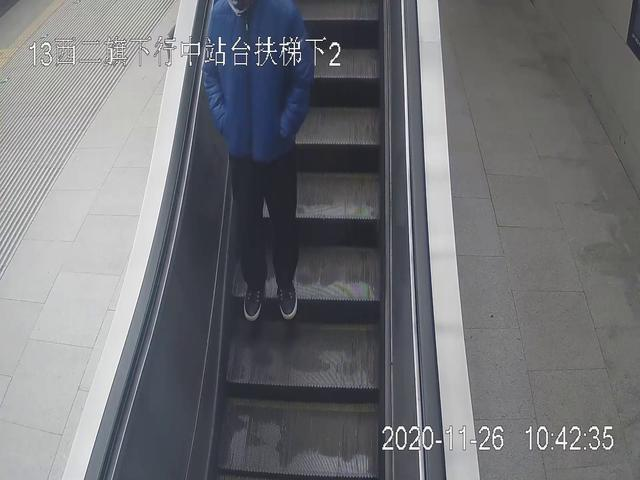person: (202, 1, 313, 320)
